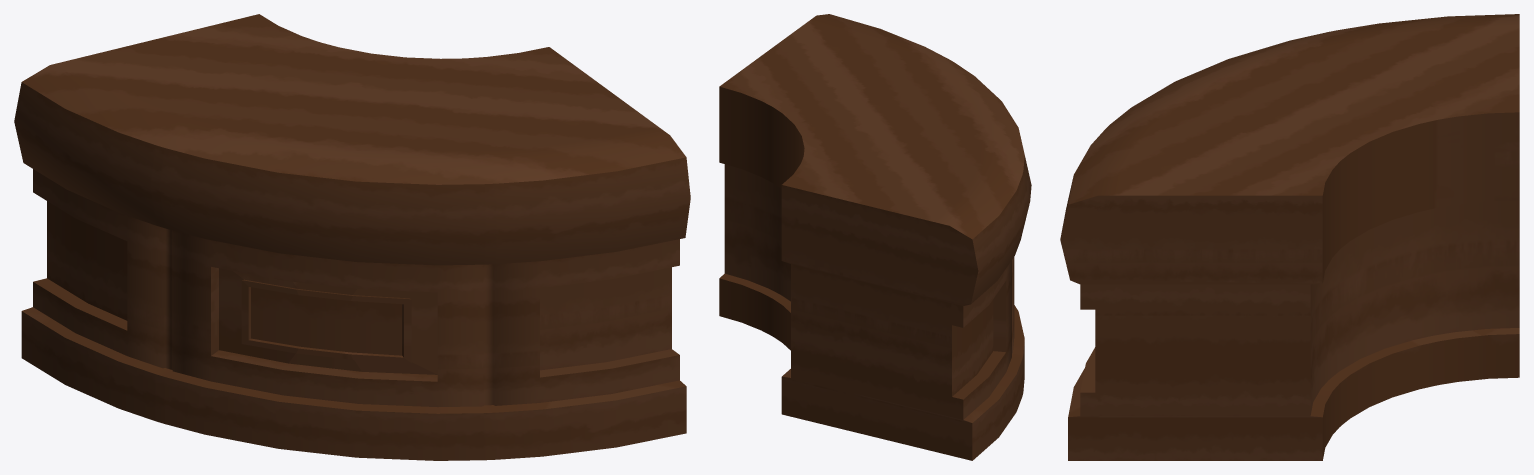
The model's file is coin.fbx.
The picture shows the model from 3 angles, left to right: view 1: azimuth 30°, elevation 25°; view 2: azimuth 150°, elevation 25°; view 3: azimuth 270°, elevation 25°; orthographic projection. The views are drawn at different scales.
Parts seen in each view (by area): view 1: T2_bar_coin; view 2: T2_bar_coin; view 3: T2_bar_coin.
Boxes of the visible parts, x1,y1,x2,y2 form: T2_bar_coin: [14, 14, 690, 460]; T2_bar_coin: [719, 14, 1031, 460]; T2_bar_coin: [1060, 14, 1519, 460].
Size of the model in its own units: 180 by 115 by 180.
1 material, 1 textured.
